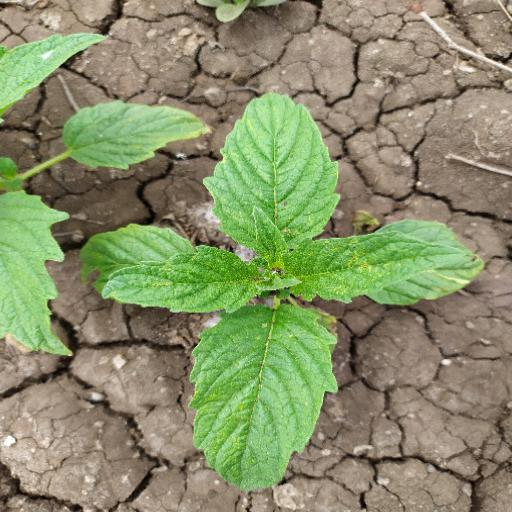crop: (99, 86, 484, 476)
